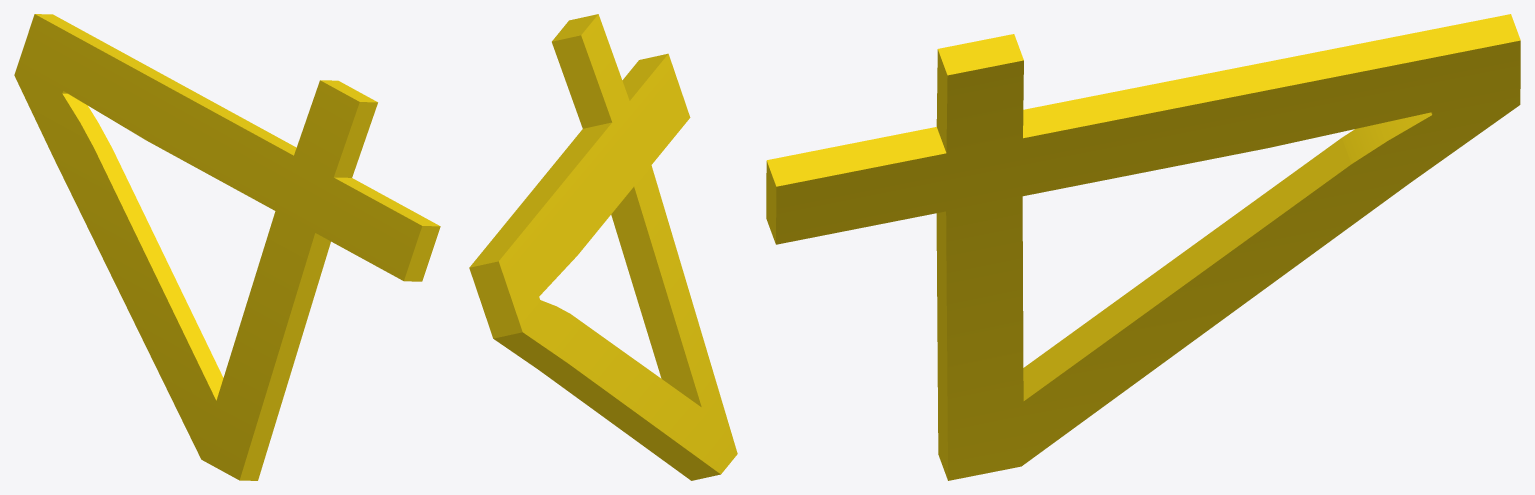
File: Number_4.gltf
3 views of the same model, side by side, from view 1: azimuth 30°, elevation 25°; view 2: azimuth 150°, elevation 25°; view 3: azimuth 270°, elevation 25° (orthographic). The views are drawn at different scales.
Visible parts, largest first — view 1: Sub_9_Cell_3_1_Number_4; view 2: Sub_9_Cell_3_1_Number_4; view 3: Sub_9_Cell_3_1_Number_4.
Boxes of the visible parts, x1,y1,x2,y2 form: Sub_9_Cell_3_1_Number_4: [14, 14, 440, 480]; Sub_9_Cell_3_1_Number_4: [469, 14, 737, 480]; Sub_9_Cell_3_1_Number_4: [766, 14, 1520, 480].
Bounding box in the file's own units: 0.00861 × 0.0183 × 0.0247.
